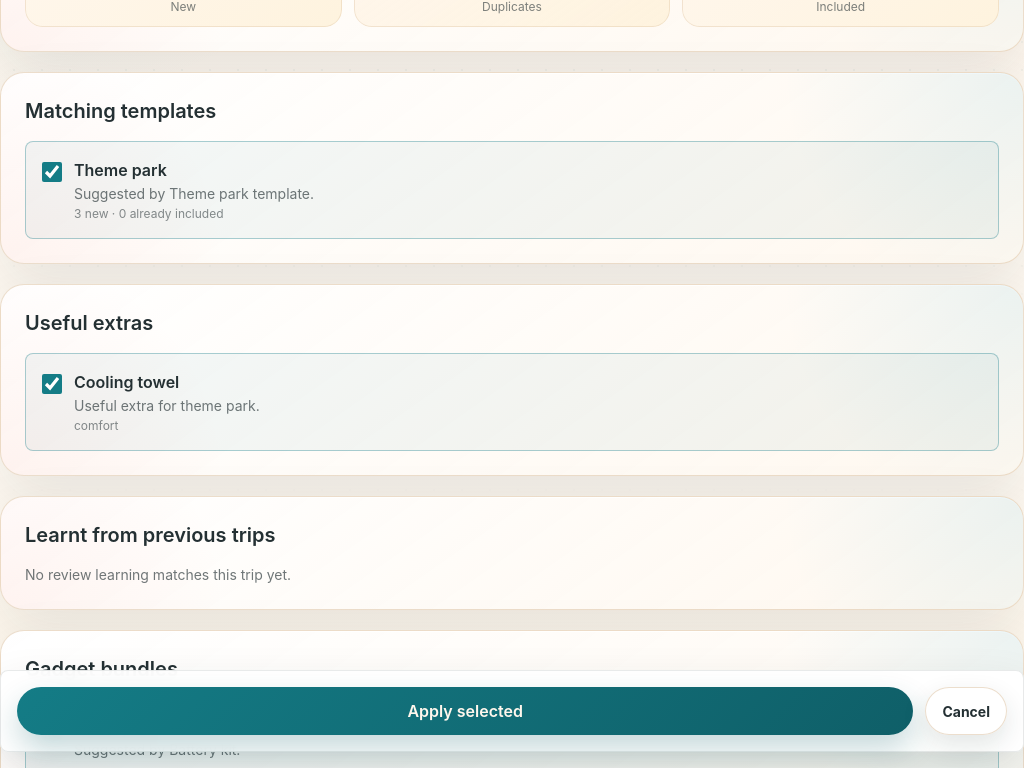
Test: StarterPackScreen › renders grouped suggestions, supports selection and applies only selected sources
(page scrolled)
Expected: the heading "Matching templates" is shown, [25,99,216,123]
Expected: the heading "Useful extras" is shown, [25,311,153,335]
Click the checkbox labelled "Cooling towel Useful extra for theme park. comfort": x=52, y=384 [42,374,62,394]
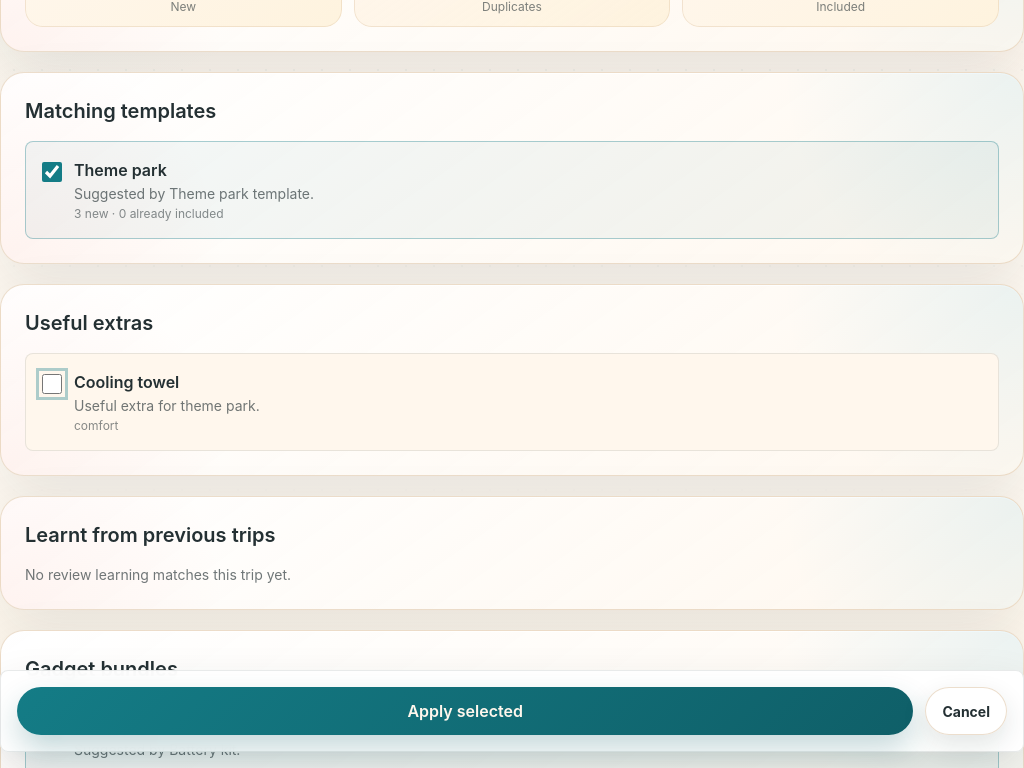
Click the button "Apply selected": x=465, y=711 [17,687,913,735]
(page scrolled)
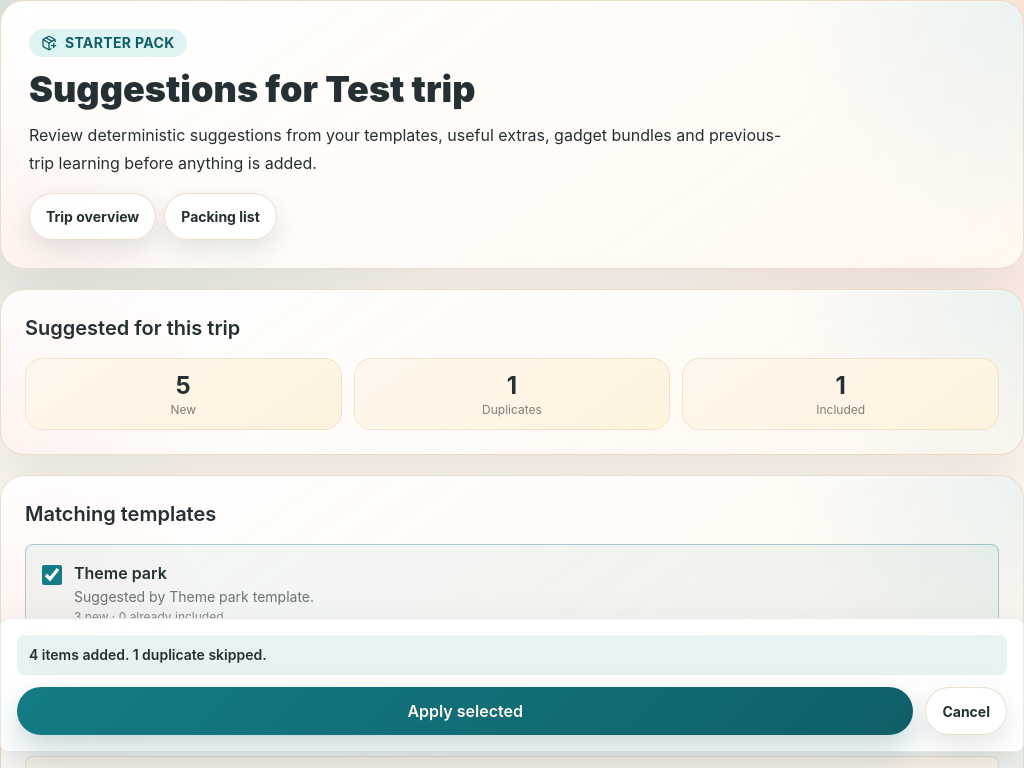
Result: the text "4 items added. 1 duplicate skipped." is shown at [17,635,1007,675]
